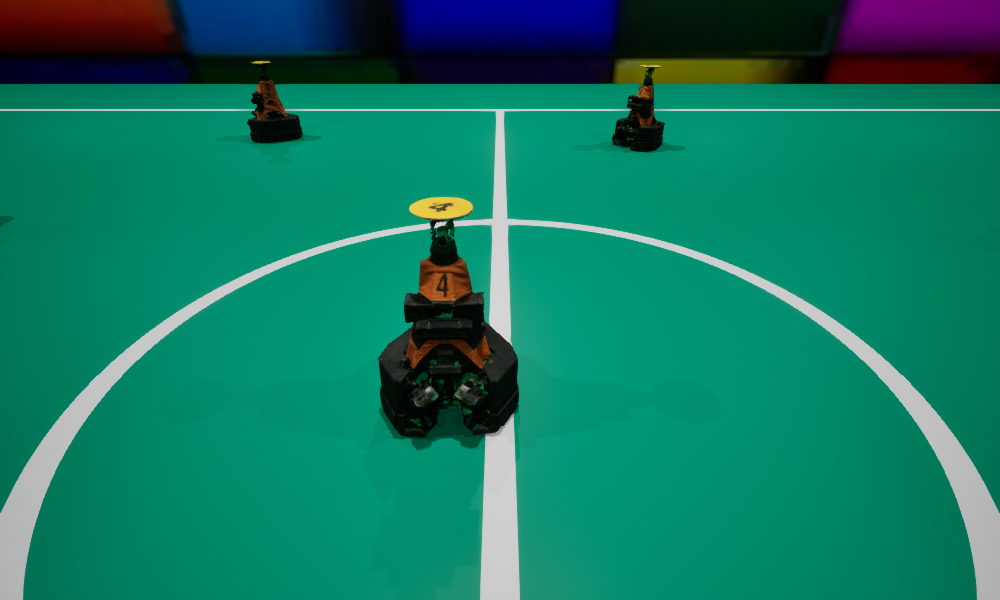o: (378, 197, 518, 437), (247, 61, 302, 142), (612, 65, 664, 150)
